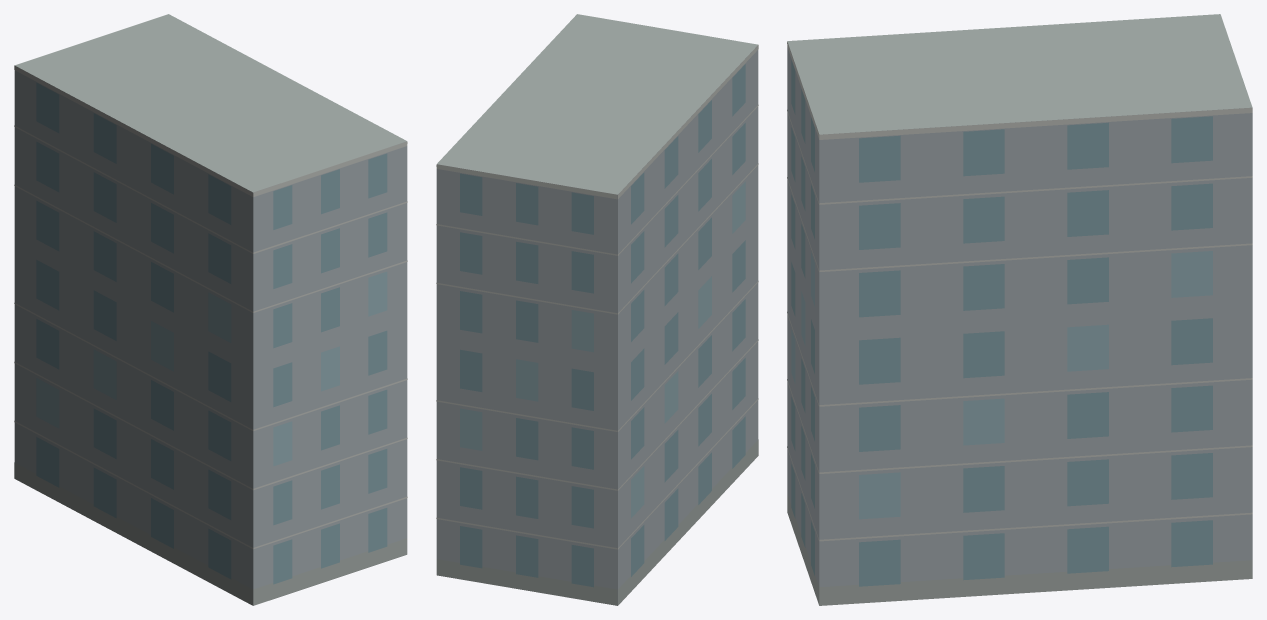
File: survey-upis-32632122.glb
3 renders of one model, left to right at view 1: azimuth 30°, elevation 25°; view 2: azimuth 150°, elevation 25°; view 3: azimuth 270°, elevation 25°, orthographic. The views are drawn at different scales.
Parts seen in each view (by area): view 1: survey-upis-32632122.tmp; view 2: survey-upis-32632122.tmp; view 3: survey-upis-32632122.tmp.
Boxes of the visible parts, box(x1,y1,x2,y2) form: survey-upis-32632122.tmp: box(14, 14, 407, 605); survey-upis-32632122.tmp: box(436, 14, 758, 605); survey-upis-32632122.tmp: box(787, 14, 1252, 605).
Size of the model in its own units: 11.75 by 21.35 by 19.13.
